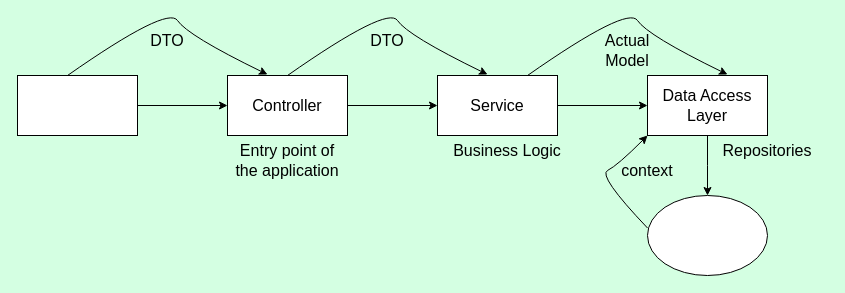
This 845x293 diagram has some shape labels left out. The shapes that lost their labels are listed below. From the top down, each one's centre as x and y in pixels, then its label:
the point at 77,105: Client Request
the point at 707,235: Database
